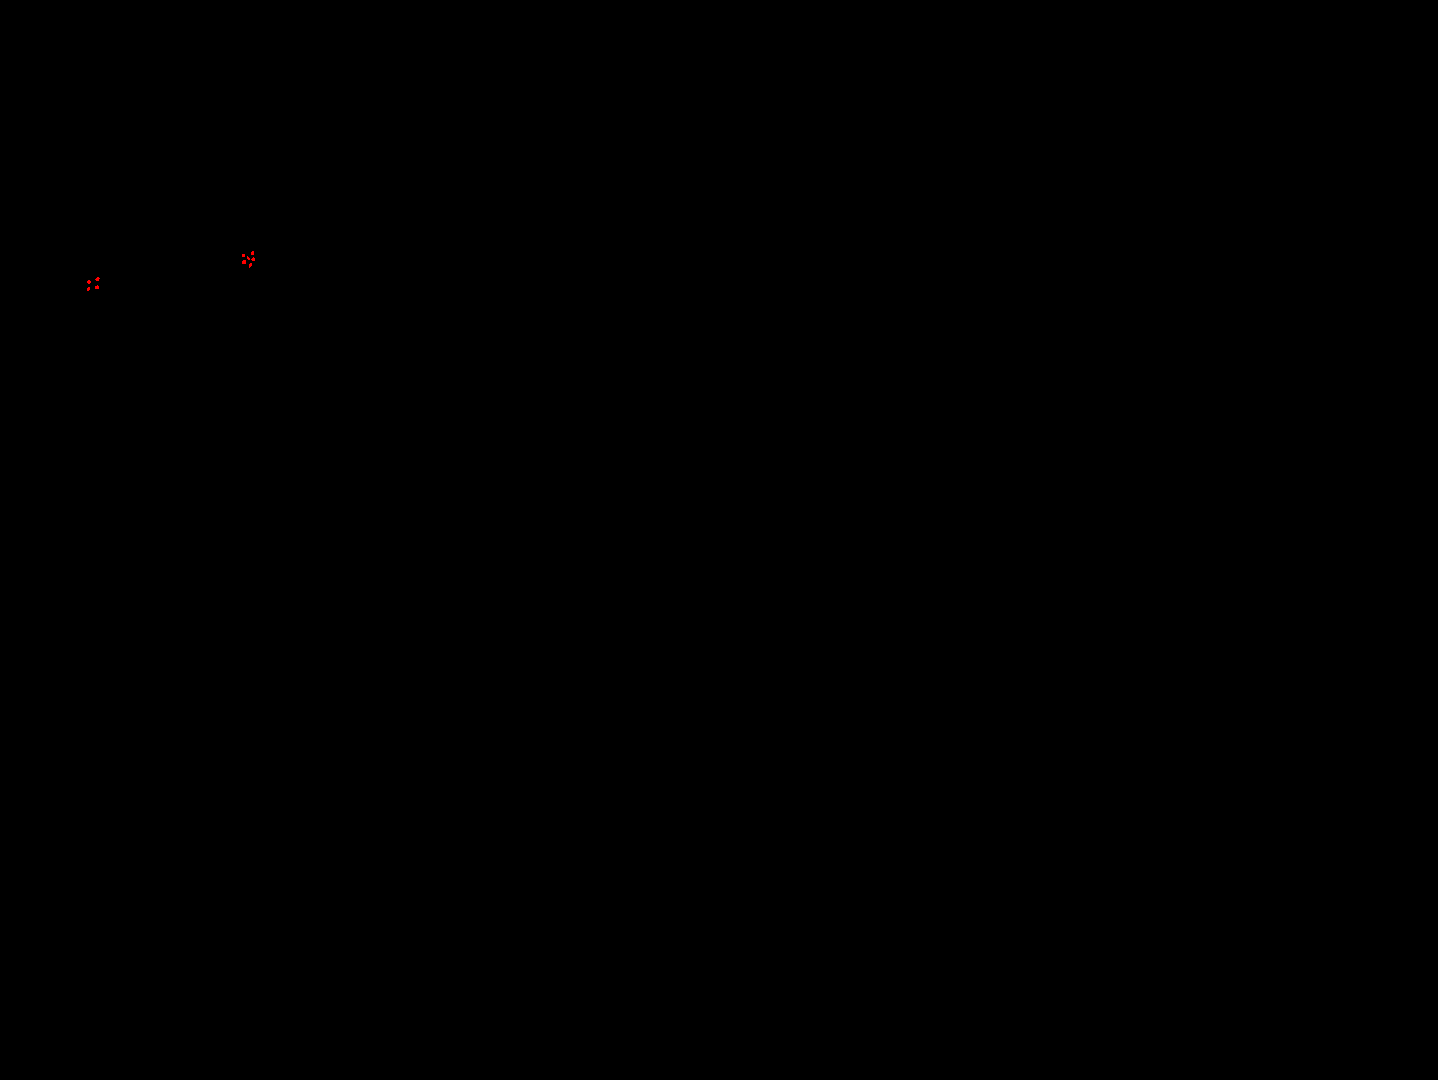Target: (242, 260, 246, 264), (95, 277, 100, 281), (251, 251, 254, 255), (251, 258, 255, 261), (95, 285, 99, 289), (242, 254, 245, 258), (87, 280, 91, 284), (249, 263, 252, 268), (87, 287, 90, 292), (247, 256, 249, 260)
